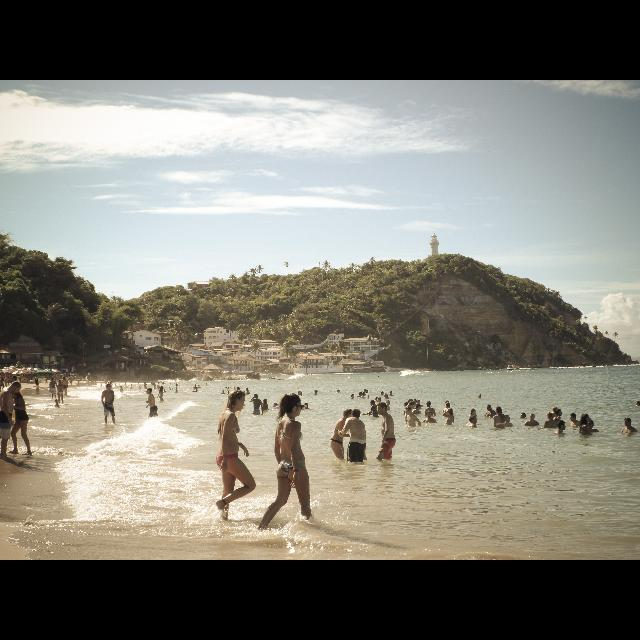head: (285, 393, 303, 417), (228, 391, 246, 412), (377, 402, 388, 416), (10, 382, 22, 394), (344, 409, 354, 419), (352, 409, 361, 419), (469, 414, 478, 424), (10, 388, 18, 399), (582, 414, 592, 422), (558, 420, 566, 430), (624, 418, 632, 427), (586, 419, 594, 428), (446, 408, 454, 416), (408, 401, 416, 409), (570, 412, 576, 422), (547, 412, 553, 420), (496, 407, 502, 415), (406, 407, 412, 415), (426, 411, 432, 419), (556, 409, 562, 416), (529, 414, 535, 421), (106, 384, 112, 390), (146, 388, 152, 394), (553, 407, 559, 413), (520, 413, 526, 419), (505, 416, 511, 422), (471, 408, 477, 414), (370, 400, 376, 406), (488, 405, 492, 411), (445, 400, 449, 406), (446, 403, 450, 409), (58, 380, 62, 384), (50, 377, 54, 381), (427, 402, 431, 406), (264, 399, 268, 403), (254, 394, 258, 398), (160, 386, 163, 389), (54, 400, 58, 402), (36, 374, 38, 378), (62, 378, 66, 380), (120, 386, 122, 388), (78, 381, 80, 382)
person: (255, 392, 318, 546), (213, 390, 257, 530), (337, 408, 368, 494), (328, 408, 356, 484), (7, 386, 33, 456), (0, 380, 22, 462), (374, 402, 396, 482), (581, 419, 601, 483), (578, 414, 594, 476), (620, 417, 638, 471), (551, 419, 567, 477), (568, 413, 584, 469), (523, 412, 541, 460), (404, 406, 422, 454), (360, 400, 380, 442), (544, 412, 558, 468), (422, 400, 438, 448), (100, 384, 116, 428), (144, 387, 160, 431), (422, 410, 438, 454), (500, 415, 514, 465), (492, 406, 506, 456), (550, 408, 564, 456), (464, 414, 478, 460), (548, 406, 562, 450), (483, 404, 497, 446), (441, 407, 455, 448), (404, 400, 416, 446), (248, 393, 264, 427), (468, 408, 480, 447), (445, 402, 455, 448), (442, 401, 452, 444), (516, 412, 528, 444), (48, 376, 58, 402), (261, 398, 271, 422), (56, 378, 64, 406), (157, 385, 165, 407), (60, 377, 68, 397), (35, 374, 41, 396), (74, 380, 82, 390), (54, 399, 60, 411), (120, 386, 124, 400)
